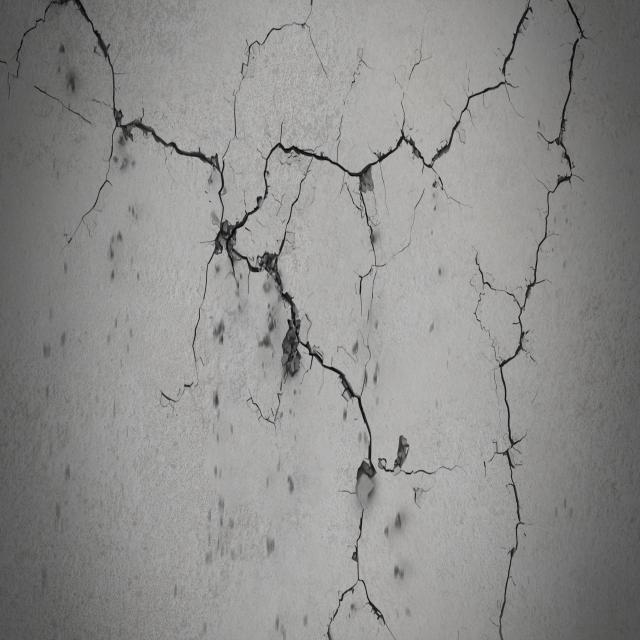Crack: (0, 0, 590, 639)
